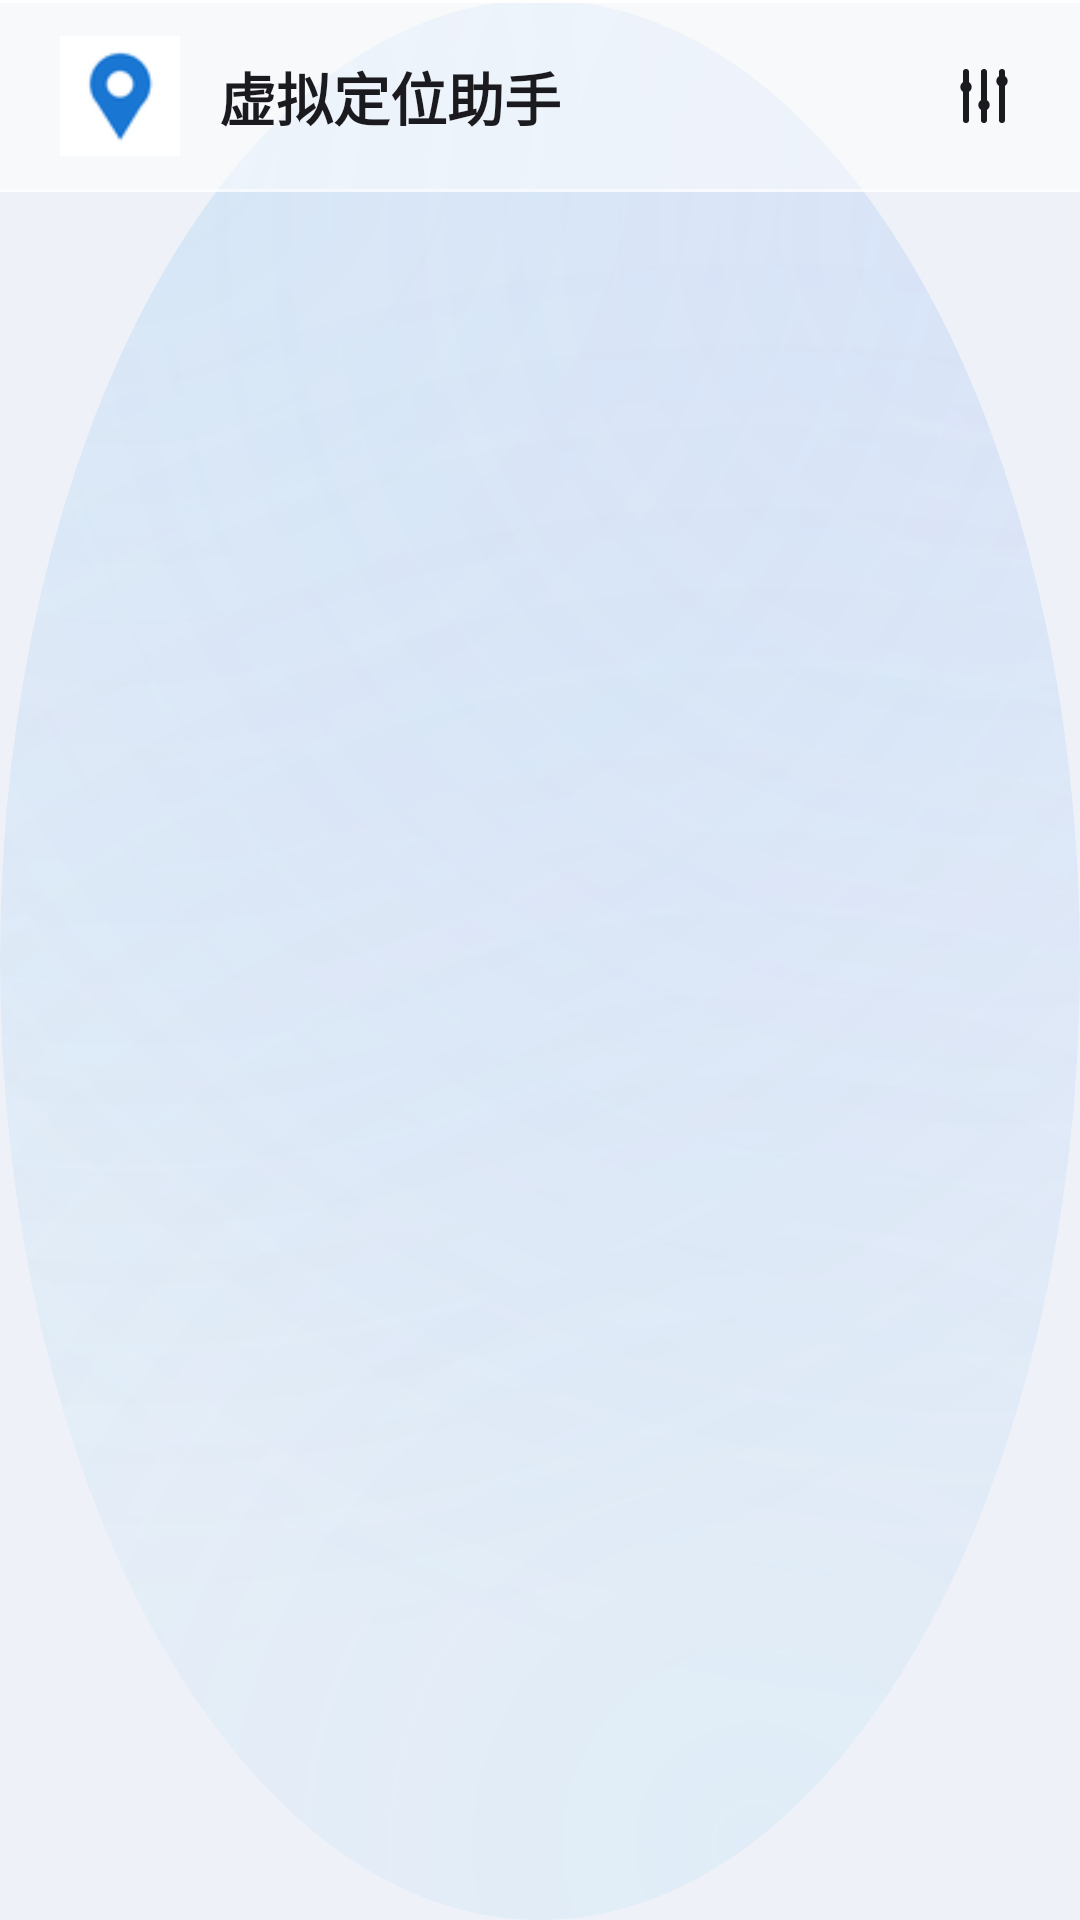

Screen size 1080 × 1920. Icon name, then its box in pixels as [x1=x1, y1=y1, x2=x2, y2=y2]:
外观设置: [x1=960, y1=69, x2=1008, y2=123]
